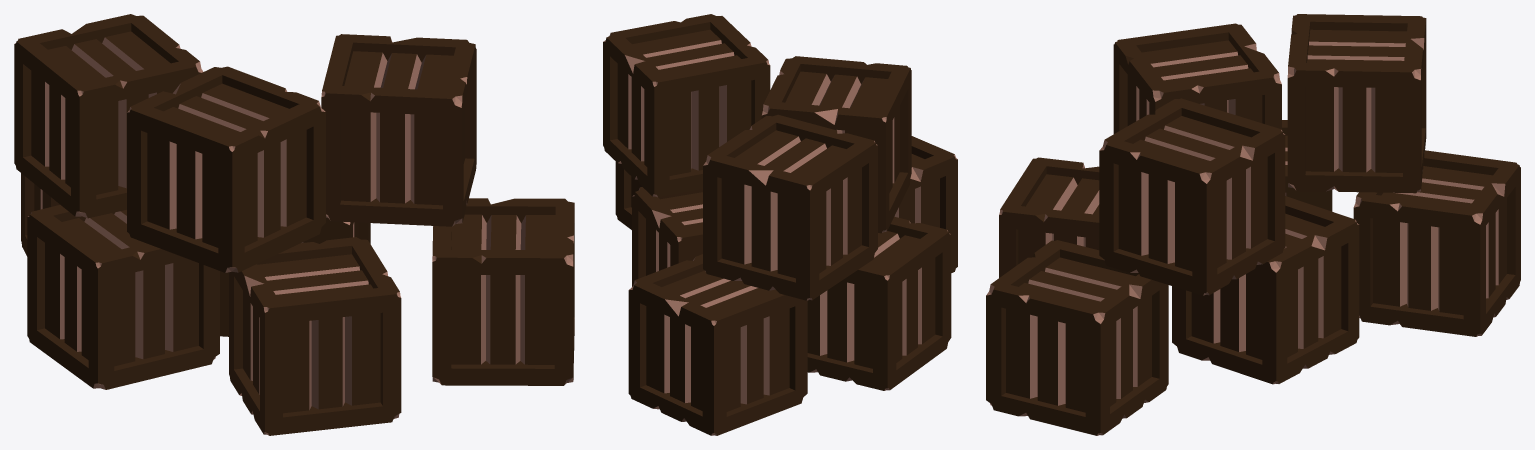
Rendered from Group Of Crates.fbx.
3 views of the same model, side by side, from view 1: azimuth 30°, elevation 25°; view 2: azimuth 150°, elevation 25°; view 3: azimuth 270°, elevation 25° (orthographic). The views are drawn at different scales.
Visible parts, largest first — view 1: Group Of Crates; view 2: Group Of Crates; view 3: Group Of Crates.
Part boxes in pixels (left/top/right/bottom): Group Of Crates: left=14, top=14, right=574, bottom=435; Group Of Crates: left=603, top=14, right=957, bottom=435; Group Of Crates: left=986, top=14, right=1520, bottom=435.
Bounding box in the file's own units: 522 × 300 × 602.
